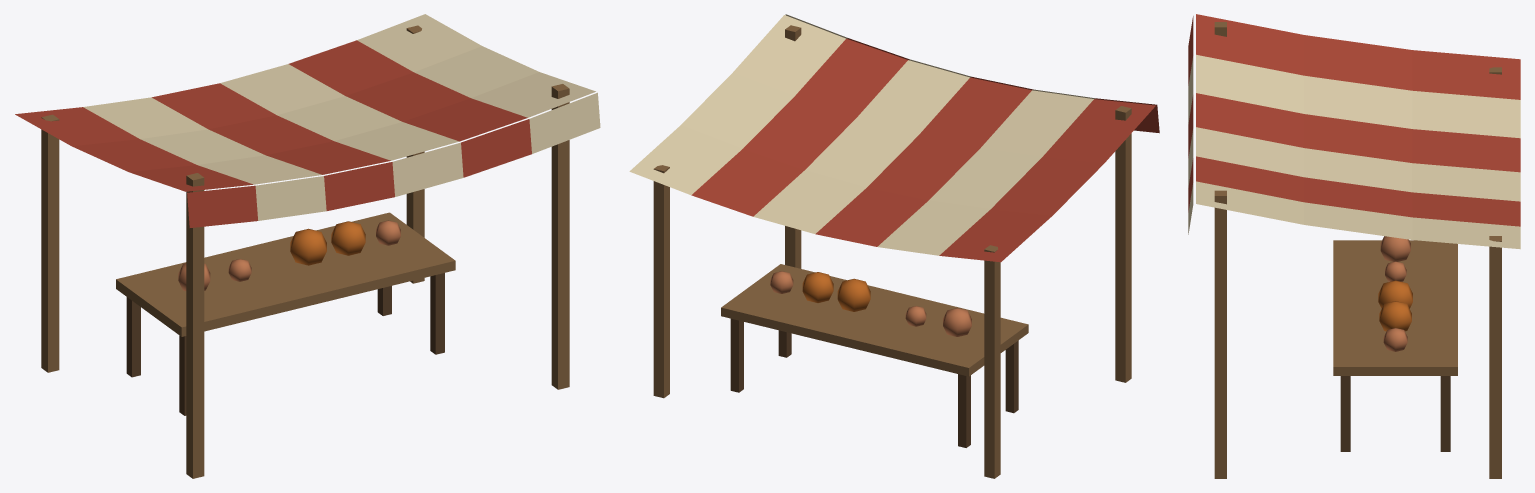
Rendered from awning.glb.
3 views of the same model, side by side, from view 1: azimuth 30°, elevation 25°; view 2: azimuth 150°, elevation 25°; view 3: azimuth 270°, elevation 25° (orthographic). The views are drawn at different scales.
Visible parts, largest first — view 1: awning; view 2: awning; view 3: awning.
Part boxes in pixels (<box>): awning: <box>15,14,600,478</box>; awning: <box>629,14,1159,478</box>; awning: <box>1188,14,1520,478</box>.
Size of the model in its own units: 3.6 by 2.5 by 2.66.
